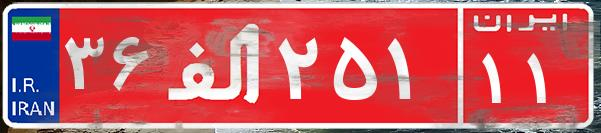1: (385, 28, 445, 110), (475, 38, 525, 113), (525, 38, 570, 115)
2: (273, 28, 330, 110)
3: (57, 26, 110, 107)
5: (330, 28, 385, 110)
6: (110, 28, 158, 105)
الف: (158, 15, 273, 115)
